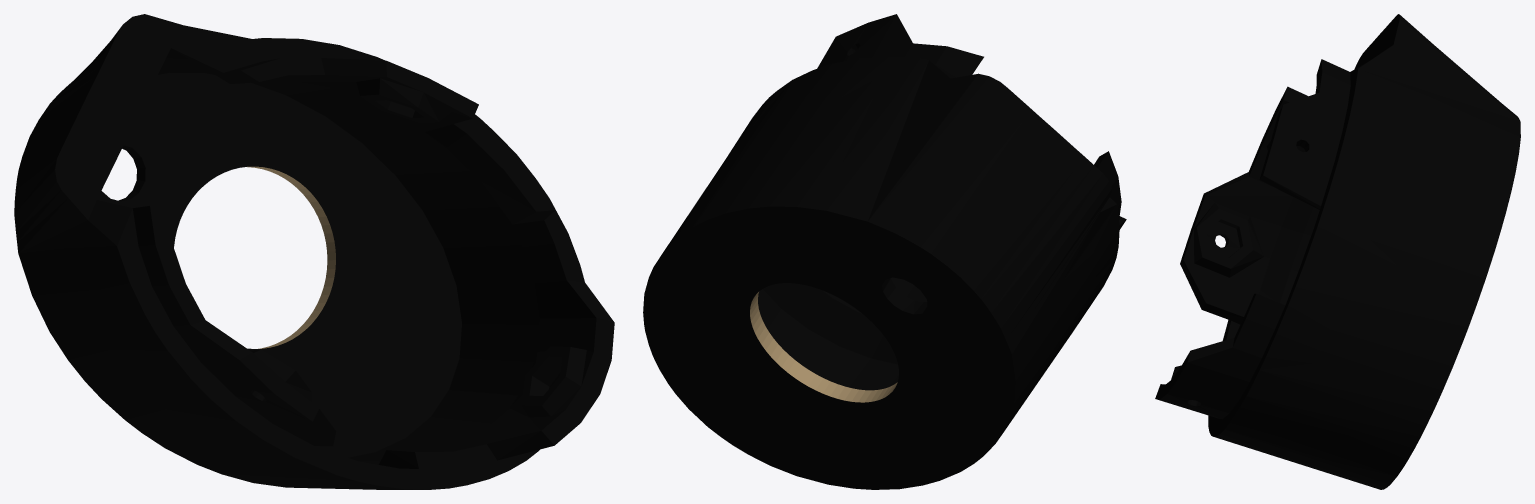
Rendered from Texture.242.dae.balanced.glb.
The picture shows the model from 3 angles, left to right: view 1: azimuth 30°, elevation 25°; view 2: azimuth 150°, elevation 25°; view 3: azimuth 270°, elevation 25°; orthographic projection. The views are drawn at different scales.
Bounding box in the file's own units: 0.5995 × 0.6186 × 0.5338.
